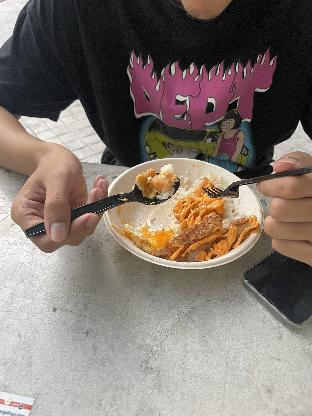Others: (99, 152, 267, 282), (21, 166, 182, 242), (198, 163, 312, 203)
